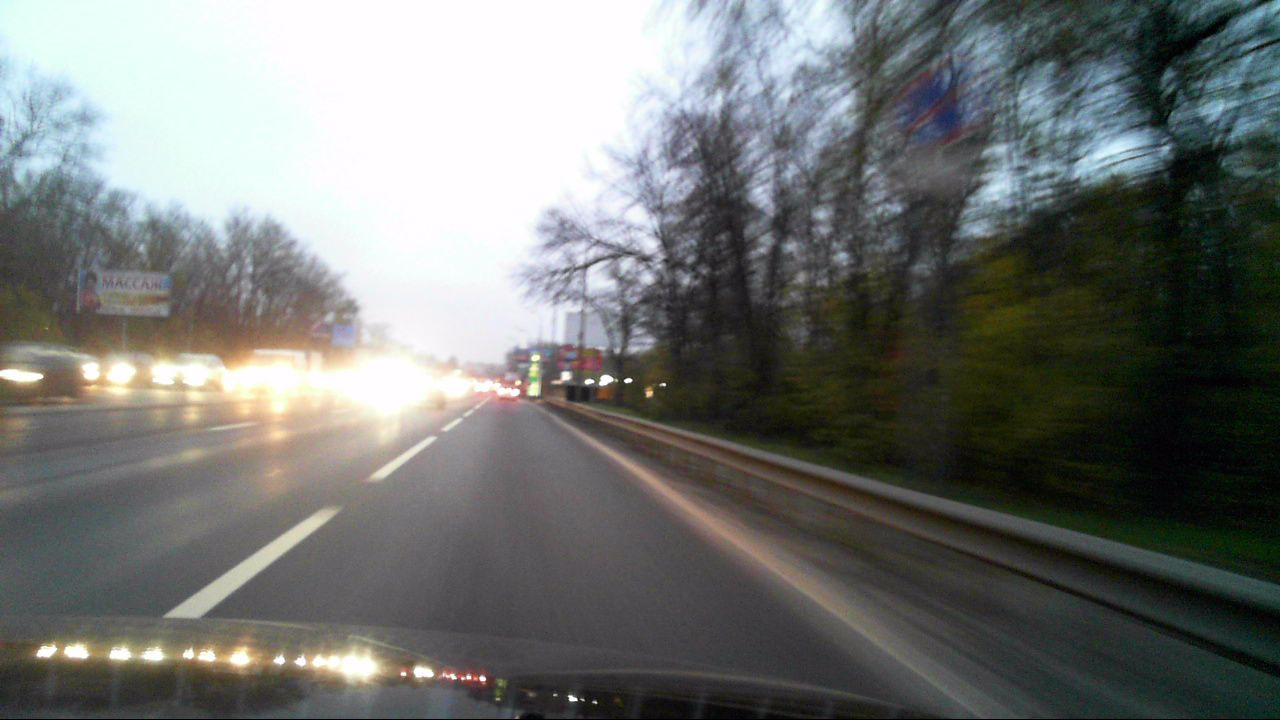No Parking: (895, 71, 968, 141)
